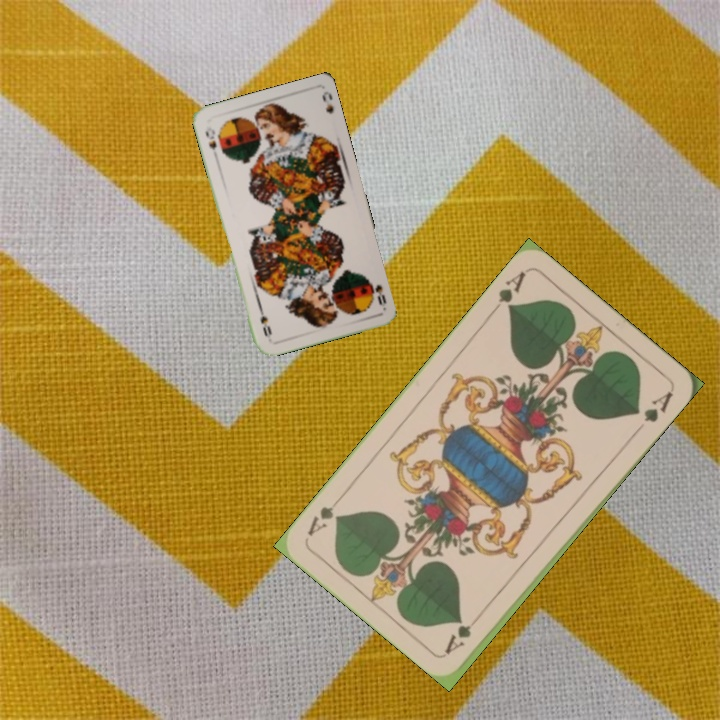GA: (494, 267, 528, 313), (441, 621, 474, 657)
SO: (364, 275, 389, 308), (201, 123, 219, 153)
